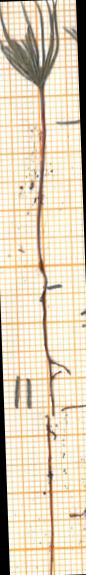flower: (0, 0, 63, 91)
root: (35, 289, 80, 573)
stem: (30, 91, 58, 285)
